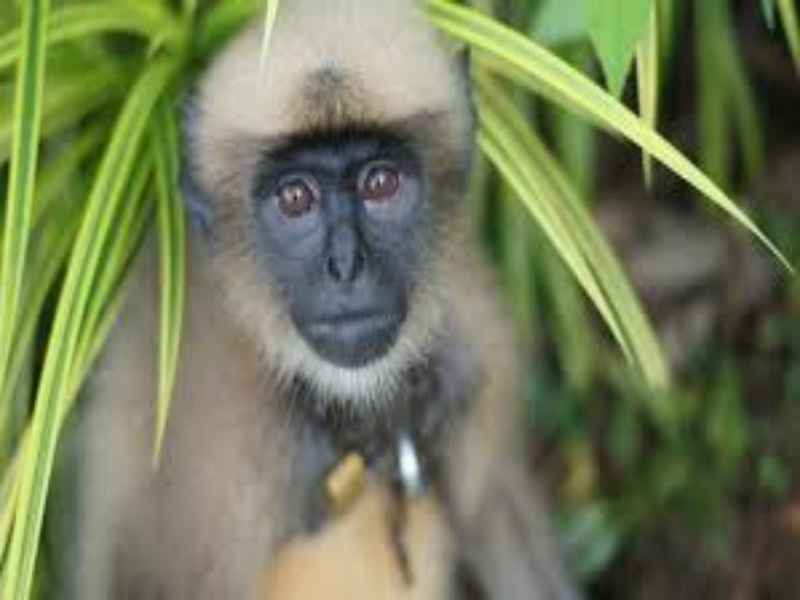monkey: (79, 12, 584, 591)
